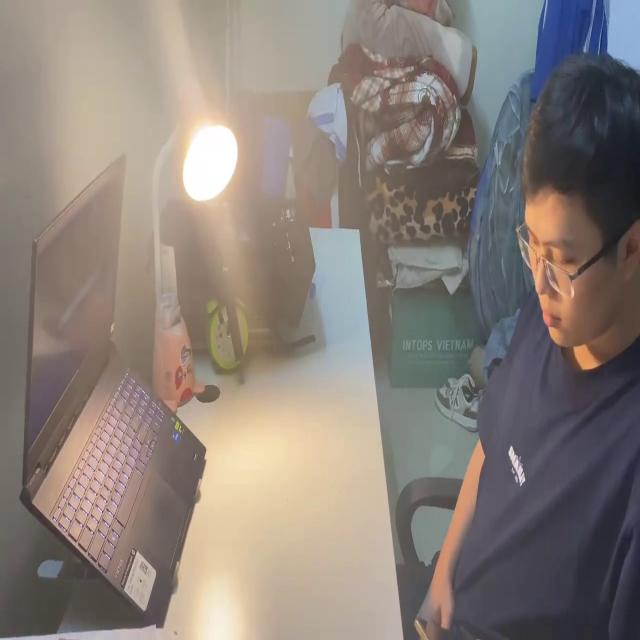laptop: (12, 150, 210, 628)
phone: (411, 612, 462, 640)
student: (398, 46, 640, 640)
